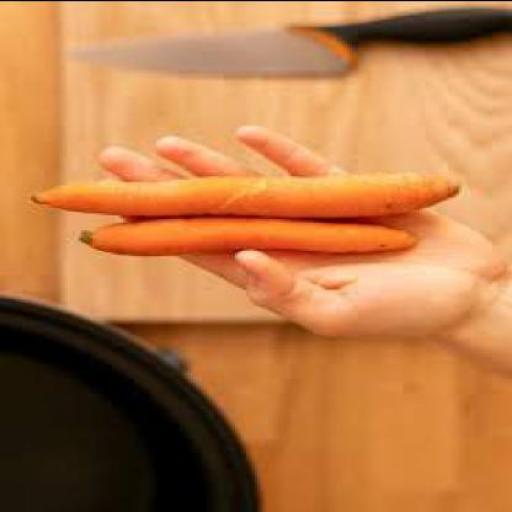biodegradable: (25, 169, 456, 220), (73, 218, 411, 261)
metal: (0, 298, 256, 511), (62, 32, 336, 76)
